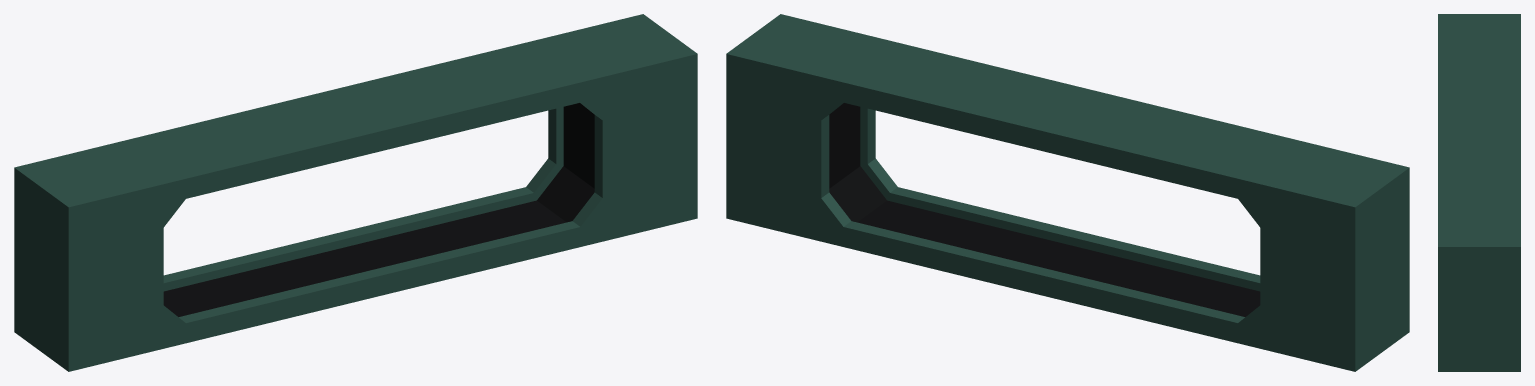
Rendered from W2_WallWindow1B_2m_Top.fbx.
The picture shows the model from 3 angles, left to right: view 1: azimuth 30°, elevation 25°; view 2: azimuth 150°, elevation 25°; view 3: azimuth 270°, elevation 25°; orthographic projection. The views are drawn at different scales.
Parts seen in each view (by area): view 1: W2_WallWindow1B_2m_Top.001; view 2: W2_WallWindow1B_2m_Top.001; view 3: W2_WallWindow1B_2m_Top.001.
Boxes of the visible parts, x1,y1,x2,y2 form: W2_WallWindow1B_2m_Top.001: (14, 14, 697, 371); W2_WallWindow1B_2m_Top.001: (726, 14, 1409, 371); W2_WallWindow1B_2m_Top.001: (1438, 14, 1520, 371).
Size of the model in its own units: 2 by 0.5 by 0.3.
